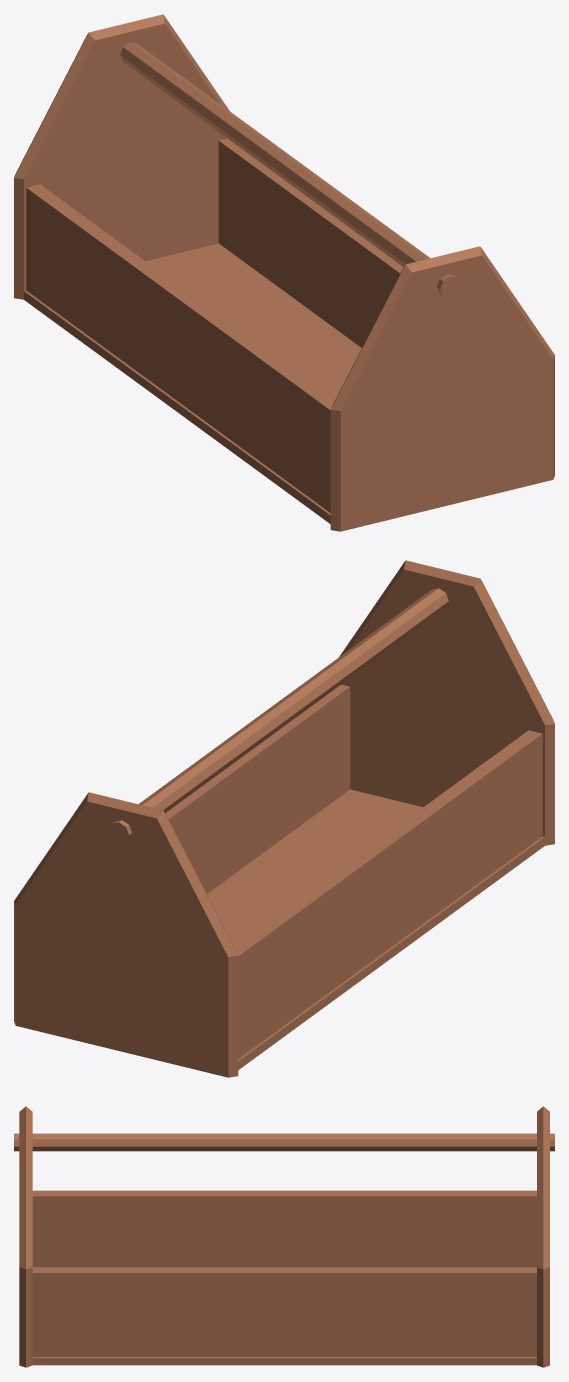
The model's file is VlyDnyK1qPgxBd1yAvS0P.glb.
The picture shows the model from 3 angles, top to bottom: view 1: azimuth 30°, elevation 25°; view 2: azimuth 150°, elevation 25°; view 3: azimuth 270°, elevation 25°; orthographic projection. The views are drawn at different scales.
Visible parts, largest first — view 1: Toolbox; view 2: Toolbox; view 3: Toolbox.
Boxes of the visible parts, x1,y1,x2,y2 form: Toolbox: [14, 14, 554, 531]; Toolbox: [14, 560, 554, 1077]; Toolbox: [14, 1106, 554, 1367].
Size of the model in its own units: 0.2269 by 0.2393 by 0.5807.
Materials: 1 (1 with a texture image).
